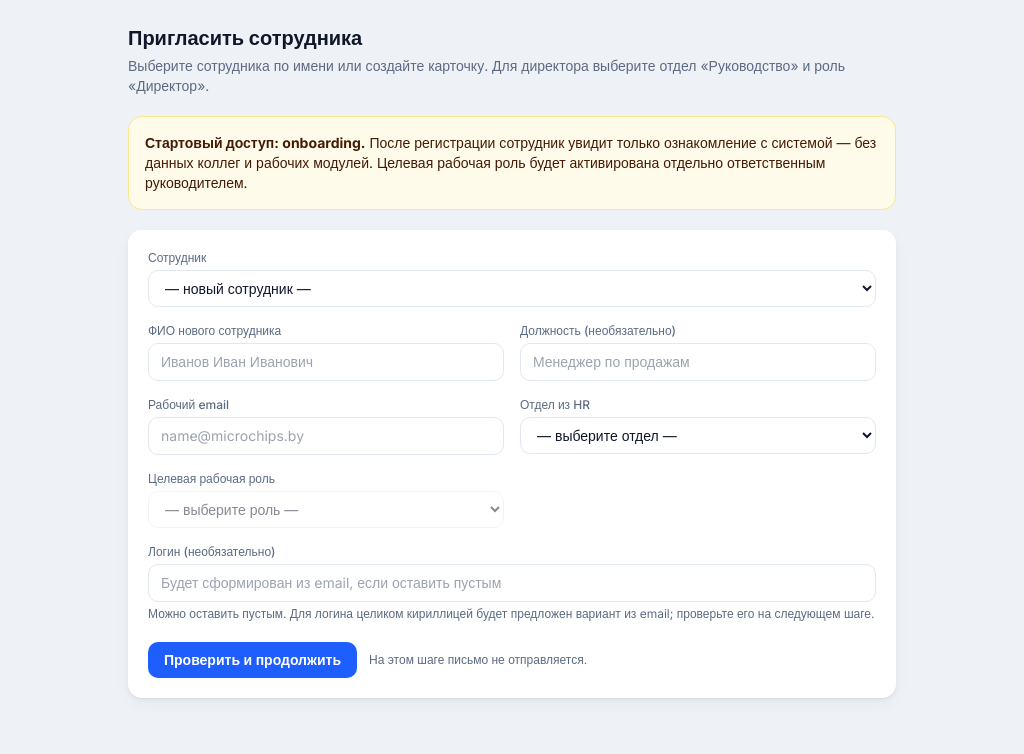
Test case: EmployeeInvitationForm › prepares a new director through HR and sends only after confirmation
In the field labelled "ФИО нового сотрудника": (326, 362) [148, 343, 504, 381], type "Тестовый руководитель"
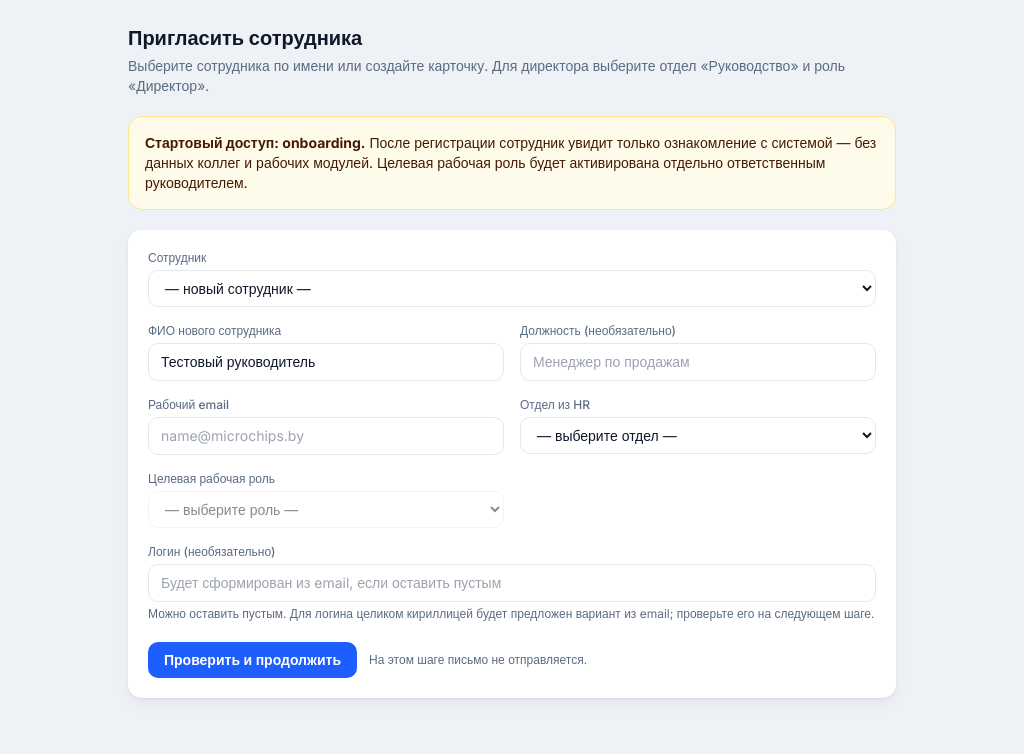
In the field labelled "Рабочий email": (326, 436) [148, 417, 504, 455], type "director@example.com"
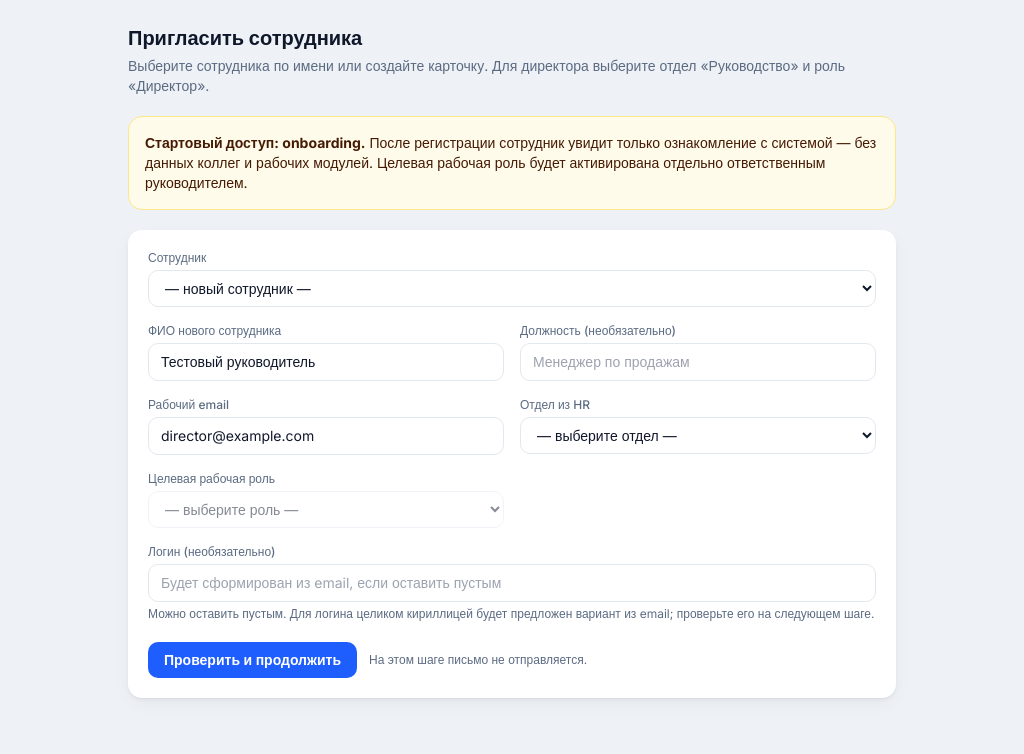
Select "Руководство" in the dropdown labelled "Отдел из HR": (698, 436) [520, 417, 876, 454]
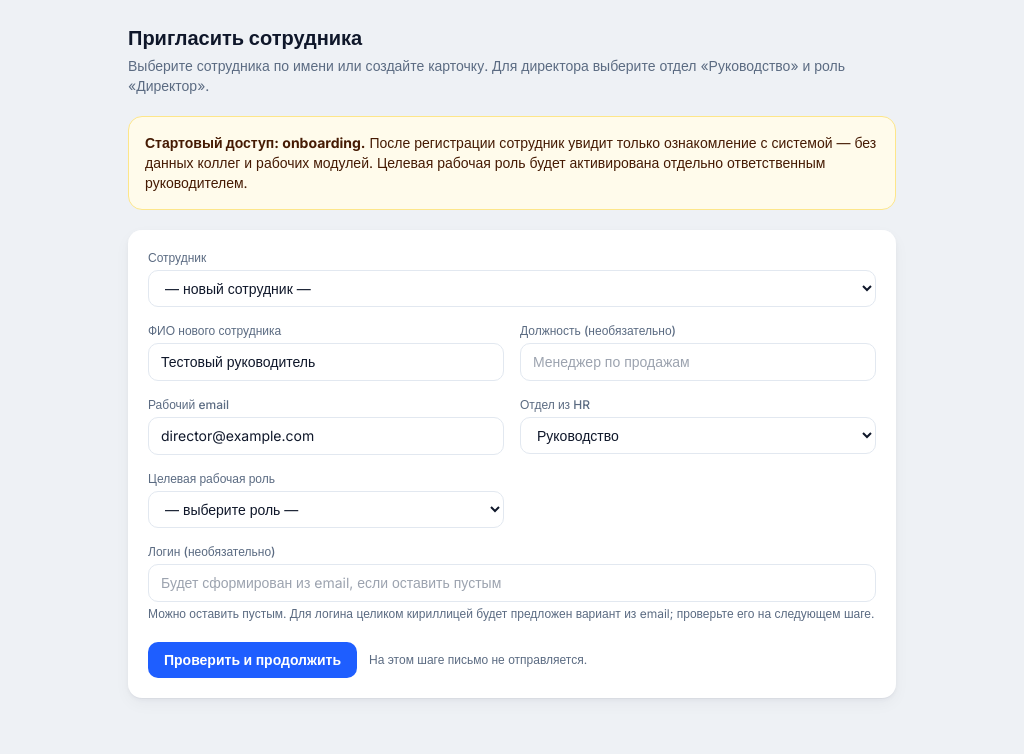
Select "Директор" in the dropdown labelled "Целевая рабочая роль": (326, 510) [148, 491, 504, 528]
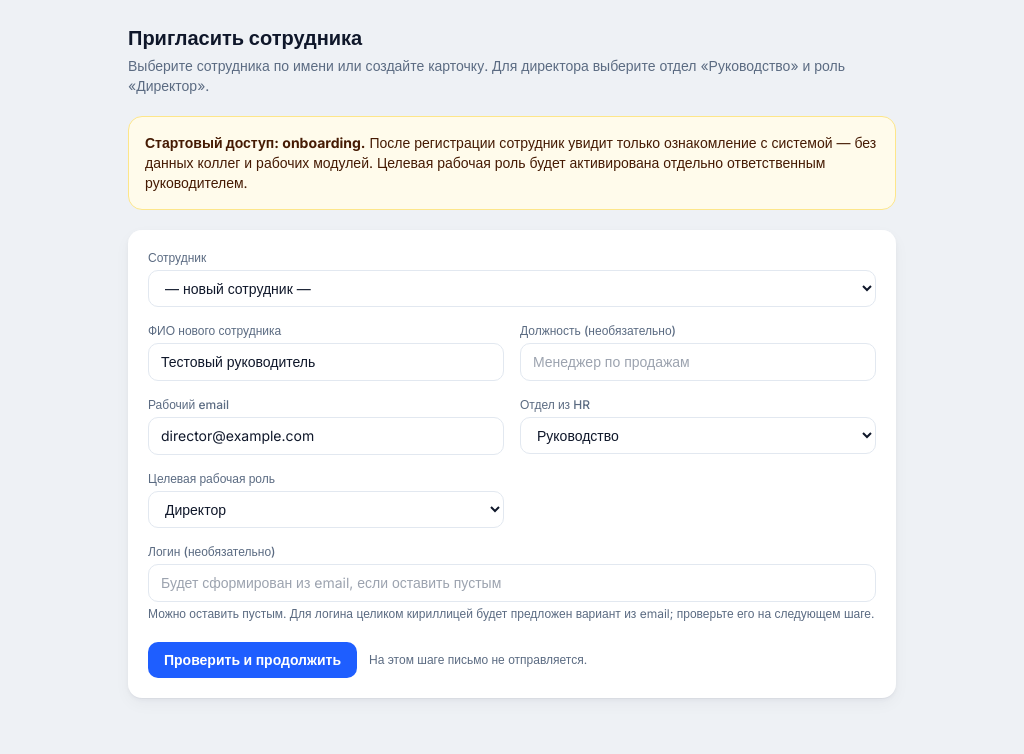
Click the button "Проверить и продолжить": (252, 660) [148, 642, 357, 678]
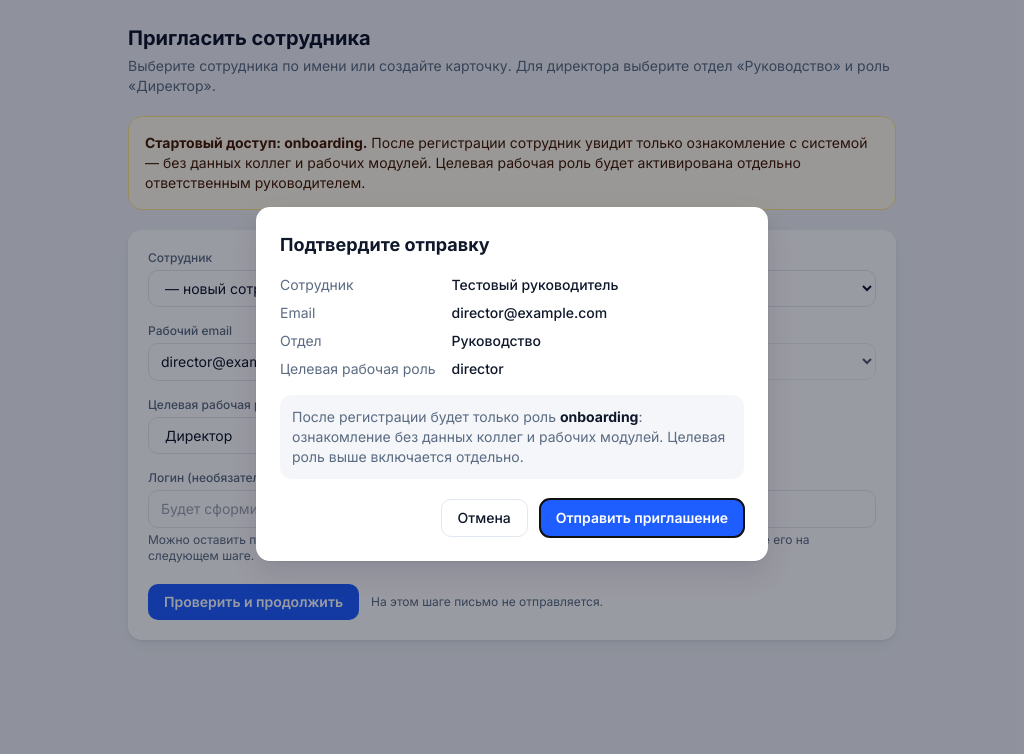
Check: the dialog shows "director", box [452, 360, 504, 377]
Click the button "Отправить приглашение": (642, 518) [540, 499, 744, 537]
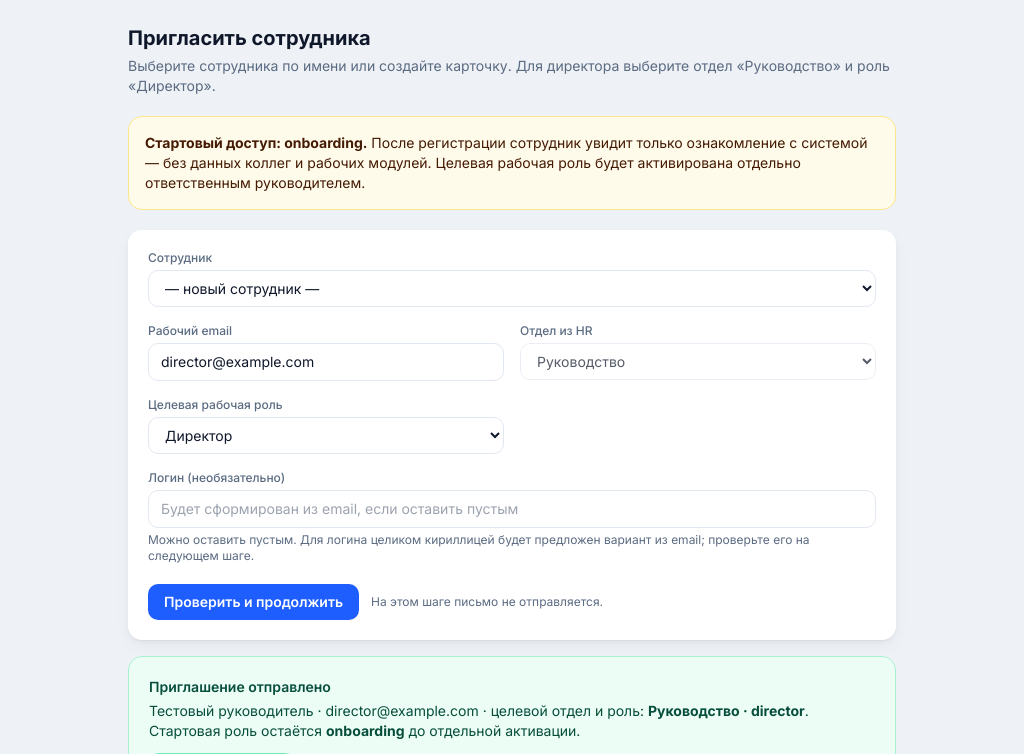
Check: the heading "Приглашение отправлено" is shown, box [149, 678, 331, 695]
